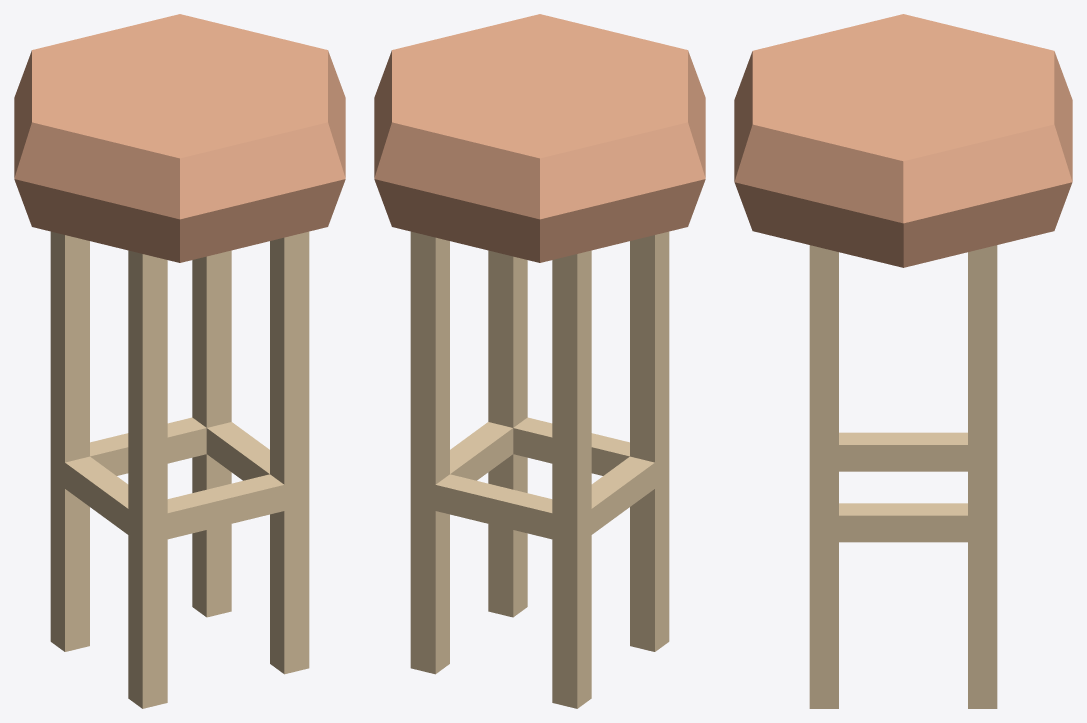
The model's file is stoolBar.glb.
3 renders of one model, left to right at view 1: azimuth 30°, elevation 25°; view 2: azimuth 150°, elevation 25°; view 3: azimuth 270°, elevation 25°, orthographic.
Parts seen in each view (by area): view 1: stoolBar; view 2: stoolBar; view 3: stoolBar.
Part boxes in pixels (left/top/right/bottom): stoolBar: left=14, top=14, right=345, bottom=708; stoolBar: left=374, top=14, right=705, bottom=708; stoolBar: left=734, top=14, right=1072, bottom=708.
Bounding box in the file's own units: 2.65 × 4.35 × 2.3.
